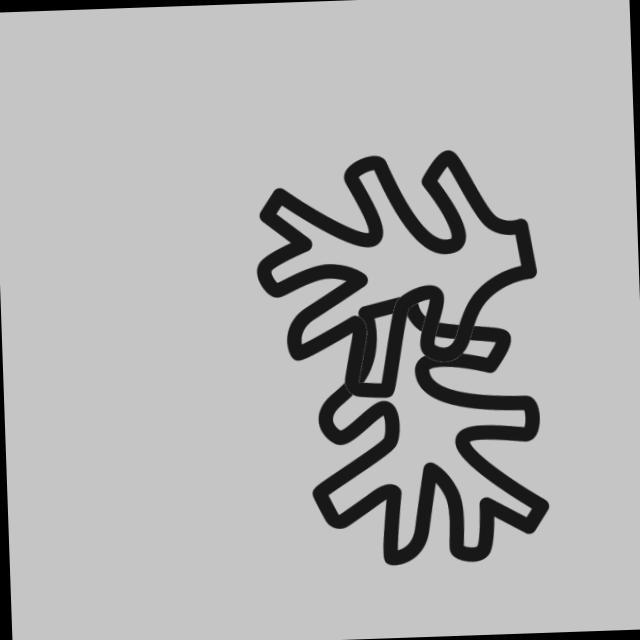coral: (239, 137, 548, 409), (295, 285, 565, 585)
